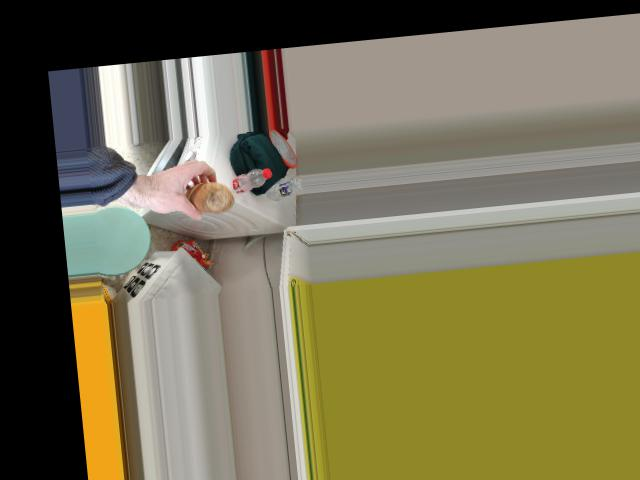sweet_potato: (180, 176, 238, 221)
